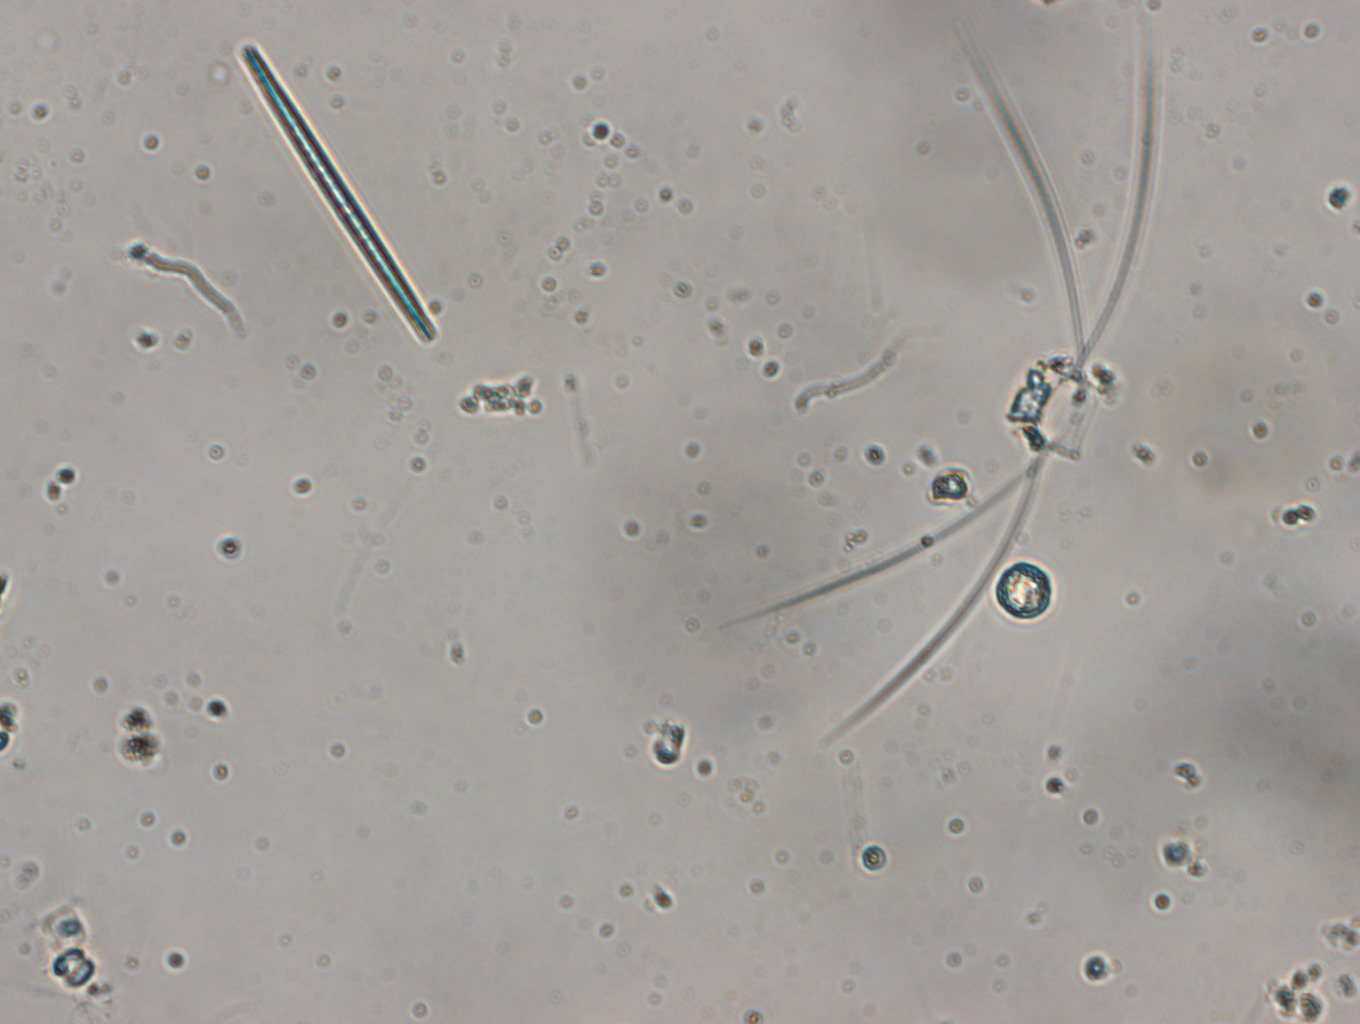chaetoceros: (727, 31, 1196, 767)
